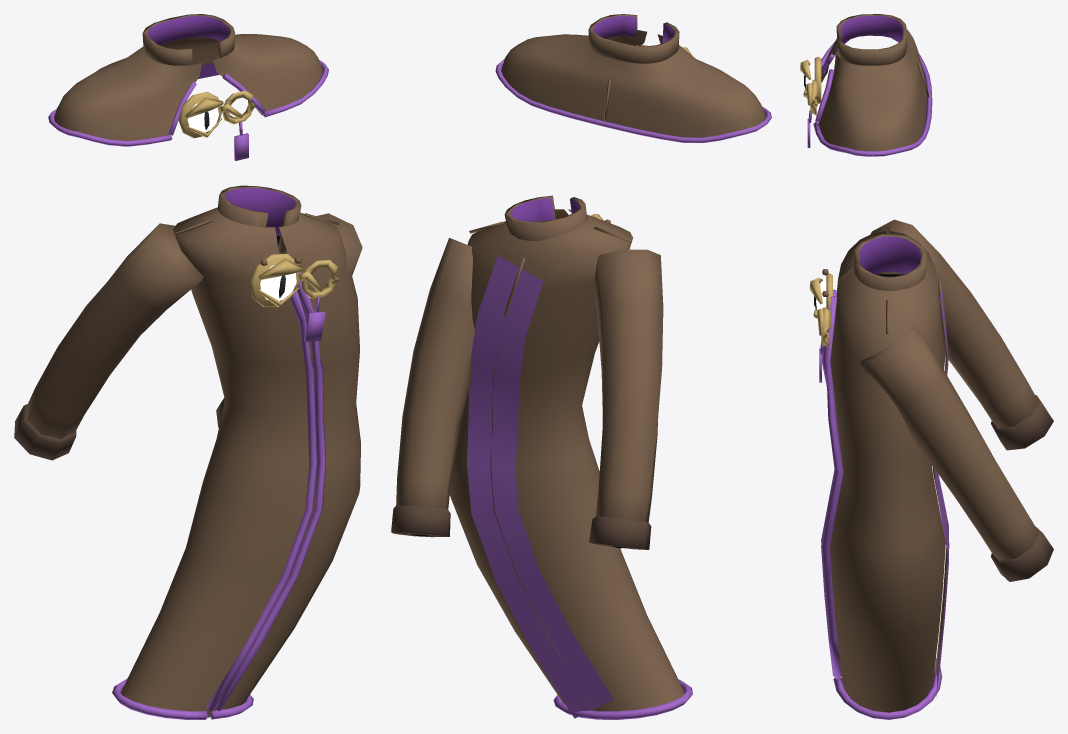
Rendered from coat-slip-coat.glb.
The picture shows the model from 3 angles, left to right: view 1: azimuth 30°, elevation 25°; view 2: azimuth 150°, elevation 25°; view 3: azimuth 270°, elevation 25°; orthographic projection. The views are drawn at different scales.
Parts seen in each view (by area): view 1: coat-slip-coat, coat-slip-coat_worn, blink_eye, sway_tag; view 2: coat-slip-coat, coat-slip-coat_worn; view 3: coat-slip-coat, coat-slip-coat_worn.
Part boxes in pixels (x1,y1,x2,y2): coat-slip-coat: (14,185,362,719); coat-slip-coat_worn: (48,14,328,146); blink_eye: (260,265,296,300); sway_tag: (304,297,325,341); coat-slip-coat: (391,195,692,719); coat-slip-coat_worn: (495,14,771,142); coat-slip-coat: (809,219,1053,719); coat-slip-coat_worn: (800,14,932,156).
Bounding box in the file's own units: 1.01 × 2.1 × 0.7338.
